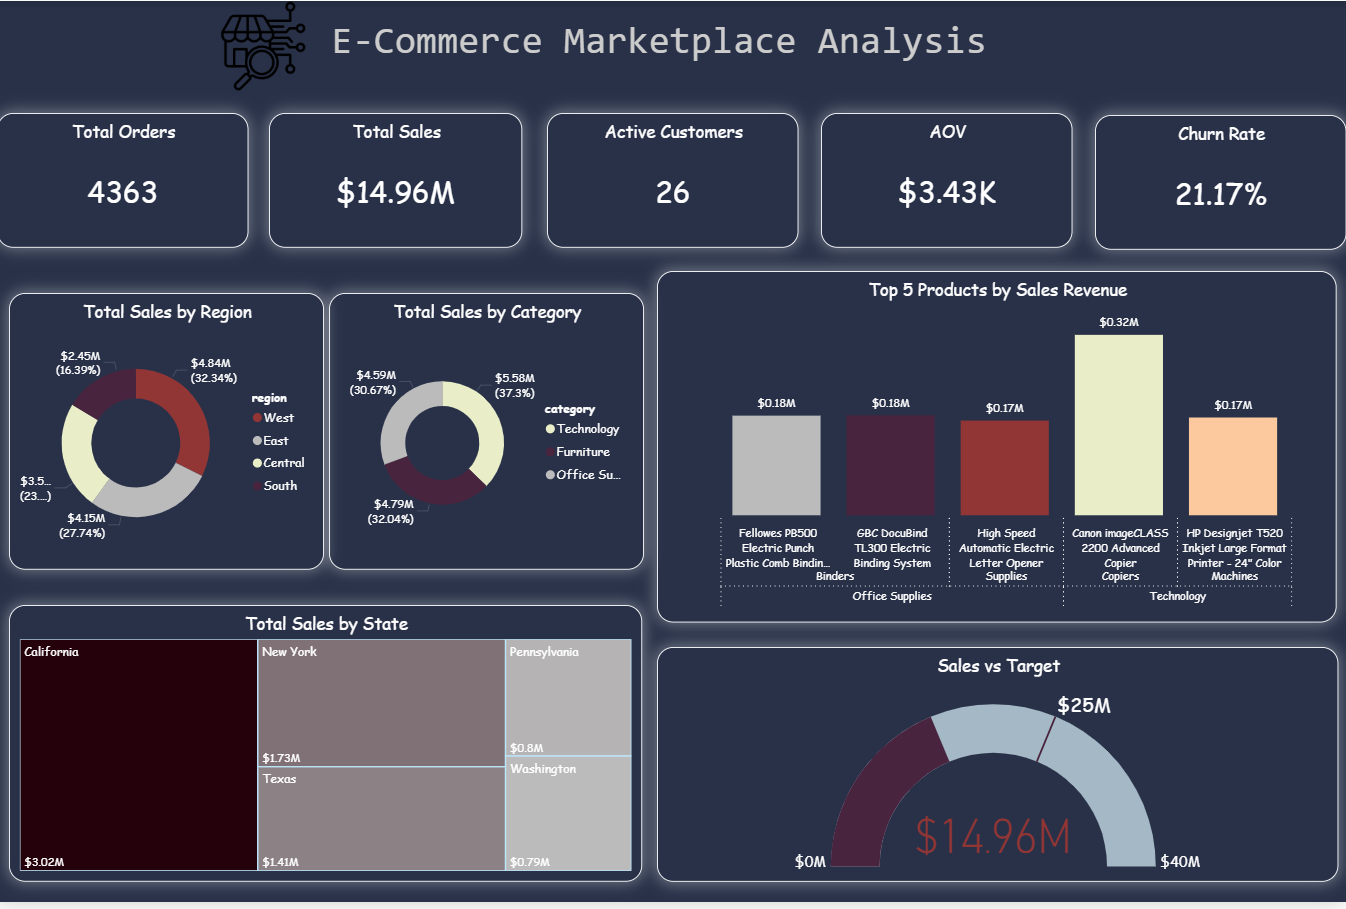

The page's visual inventory and layout, read from the dashboard file:
{"tool":"powerbi","page":{"name":"Sales","canvas":[1500,1000],"ordinal":0},"visuals":[{"type":"card","title":"Total Orders","fields":{"Values":["DaxMeasureas.# Orders"]},"box":[1.8,123.8,279.1,149.7],"z":0},{"type":"card","title":"Active Customers","fields":{"Values":["DaxMeasureas.# active Cutomers"]},"box":[611.8,123.8,279.1,149.7],"z":1000},{"type":"card","title":"Churn Rate","fields":{"Values":["DaxMeasureas.Churn Rate"]},"box":[1220.9,125.7,279.1,149.7],"z":2000},{"type":"card","title":"Total Sales","fields":{"Values":["DaxMeasureas.Total Sales"]},"box":[305,123.8,281,149.7],"z":3000},{"type":"card","title":"AOV","fields":{"Values":["DaxMeasureas.AOV"]},"box":[916.8,123.8,279.1,149.7],"z":4000},{"type":"clusteredColumnChart","title":"Top 5 Products by Sales Revenue","fields":{"Y":["DaxMeasureas.Total Sales"],"Category":["dim_product.category Hierarchy.category","dim_product.category Hierarchy.subcategory","dim_product.category Hierarchy.product"]},"box":[733.8,299.4,754.2,390],"z":5000},{"type":"donutChart","title":"Total Sales by Category","fields":{"Y":["DaxMeasureas.Total Sales"],"Category":["dim_product.category Hierarchy.category"]},"box":[369.7,323.5,349.4,306.8],"z":6000},{"type":"donutChart","title":"Total Sales by Region","fields":{"Y":["DaxMeasureas.Total Sales"],"Category":["dim_customer.region"]},"box":[16.6,323.5,349.4,306.8],"z":7000},{"type":"treemap","title":"Total Sales by State","fields":{"Group":["dim_customer.country Hierarchy.state","dim_customer.country Hierarchy.city"],"Values":["DaxMeasureas.Total Sales"]},"box":[16.6,671,702.4,306.8],"z":8000},{"type":"gauge","title":"Sales vs Target","fields":{"Y":["DaxMeasureas.Total Sales"]},"box":[733.8,717.2,756,260.6],"z":9000},{"type":"textbox","box":[367.4,12.9,765.2,86.9],"z":10000},{"type":"image","box":[192.2,0,208.9,99.8],"z":11000}]}

Visuals, with their boxes in screenshot pixels (x1, y1, x2, y2), scaled from the page's 1500x1000 canvas onto the 1346x909 screenshot:
"Total Orders" card: 2:113:252:249
"Active Customers" card: 549:113:799:249
"Churn Rate" card: 1096:114:1345:250
"Total Sales" card: 274:113:526:249
"AOV" card: 823:113:1073:249
"Top 5 Products by Sales Revenue" clusteredColumnChart: 658:272:1335:627
"Total Sales by Category" donutChart: 332:294:645:573
"Total Sales by Region" donutChart: 15:294:328:573
"Total Sales by State" treemap: 15:610:645:889
"Sales vs Target" gauge: 658:652:1337:889
textbox: 330:12:1016:91
image: 172:0:360:91
